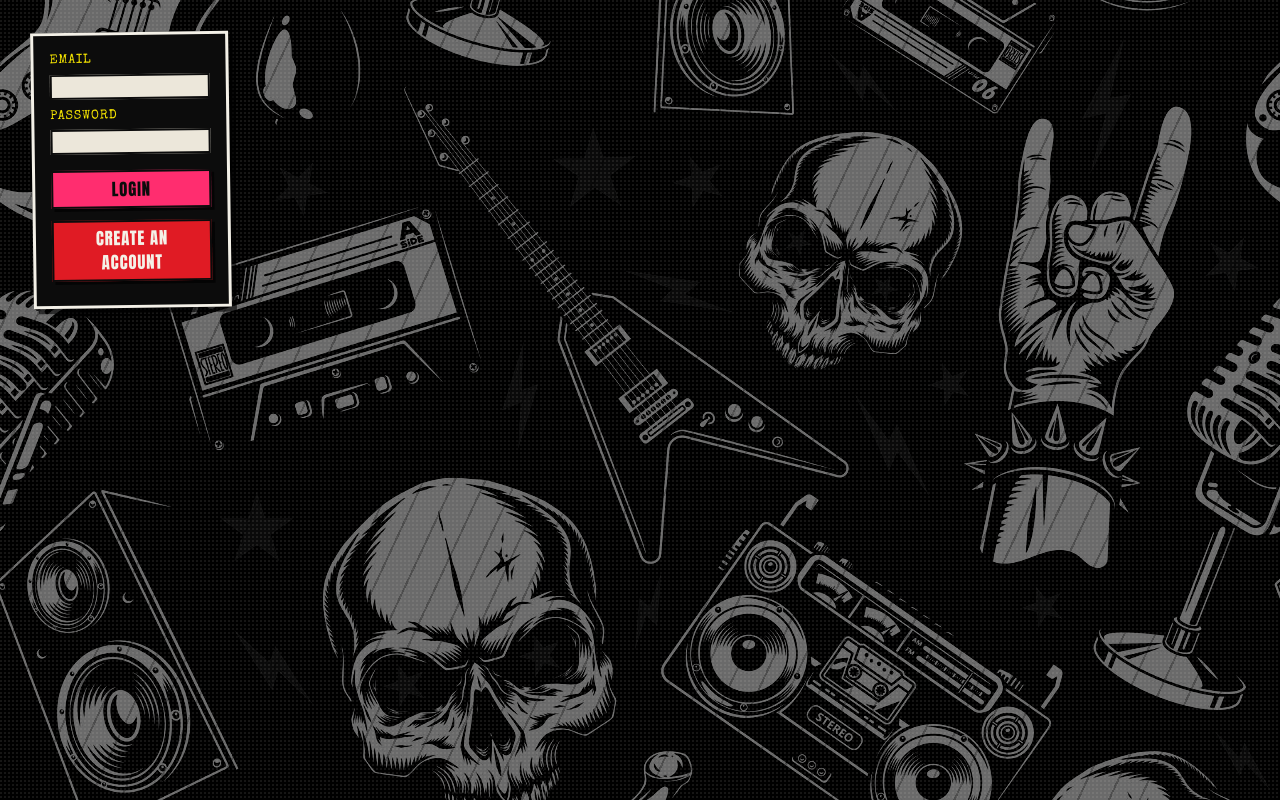
Test: LoginPanel, logged out › signs the member in, token and all
In the field labelled "Email": {"x": 130, "y": 86} [50,72,210,100], type "joey@ramones.com"
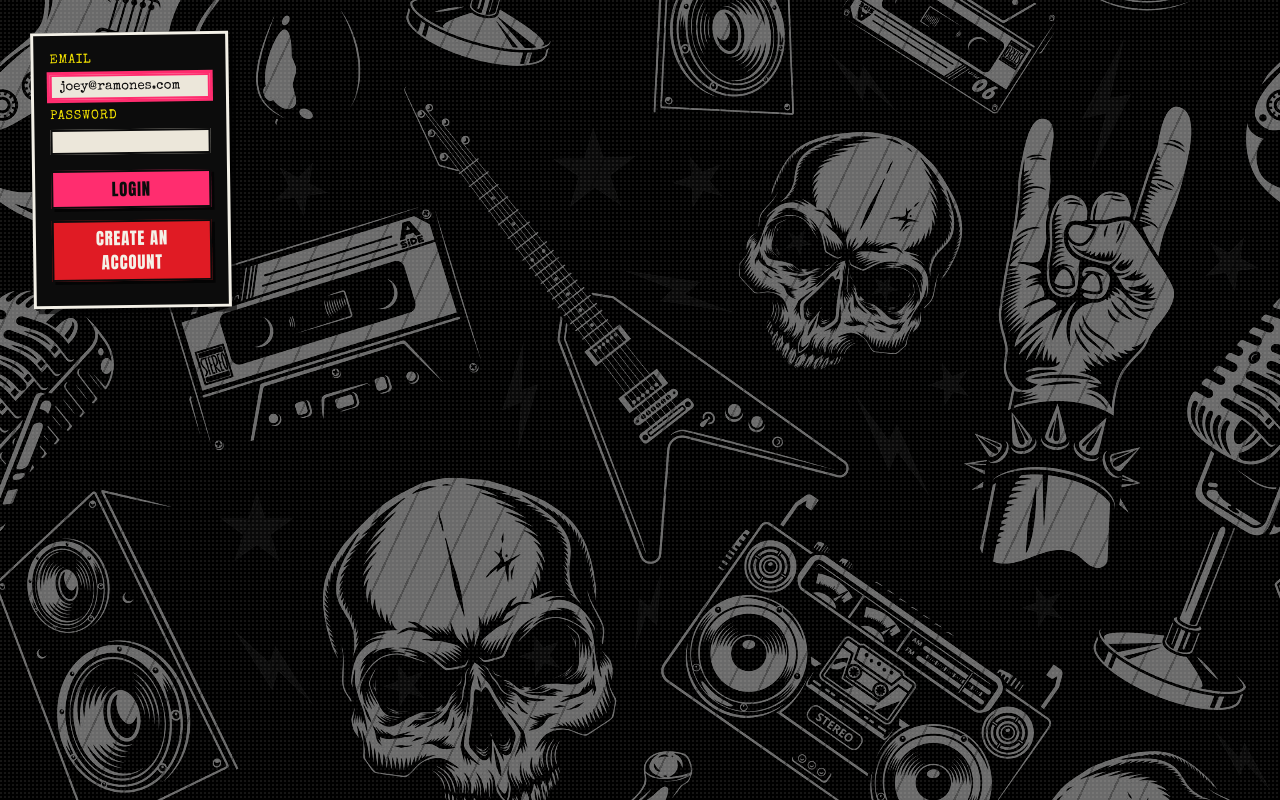
In the password field labelled "Password": {"x": 131, "y": 142} [50,128,211,155], type "hey-ho-lets-go"
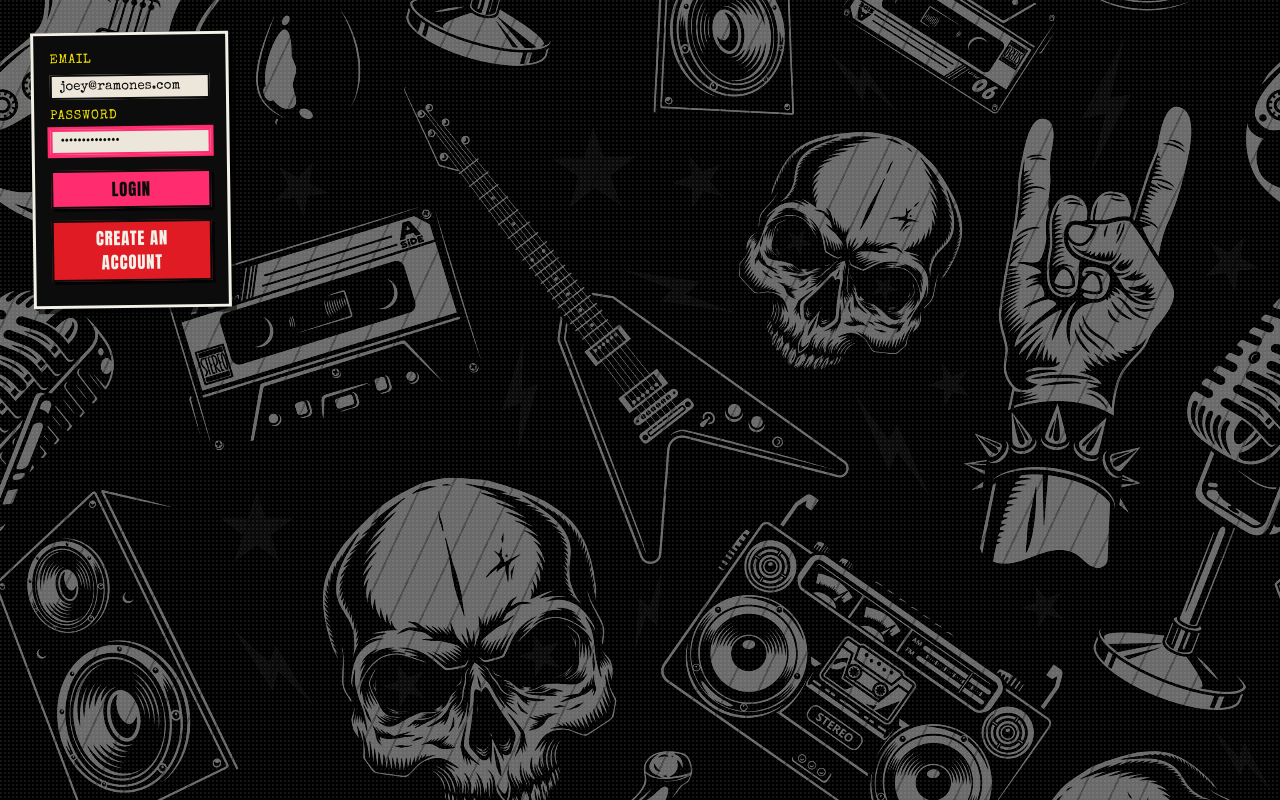
Click the button "Login": {"x": 131, "y": 189} [51,169,212,209]
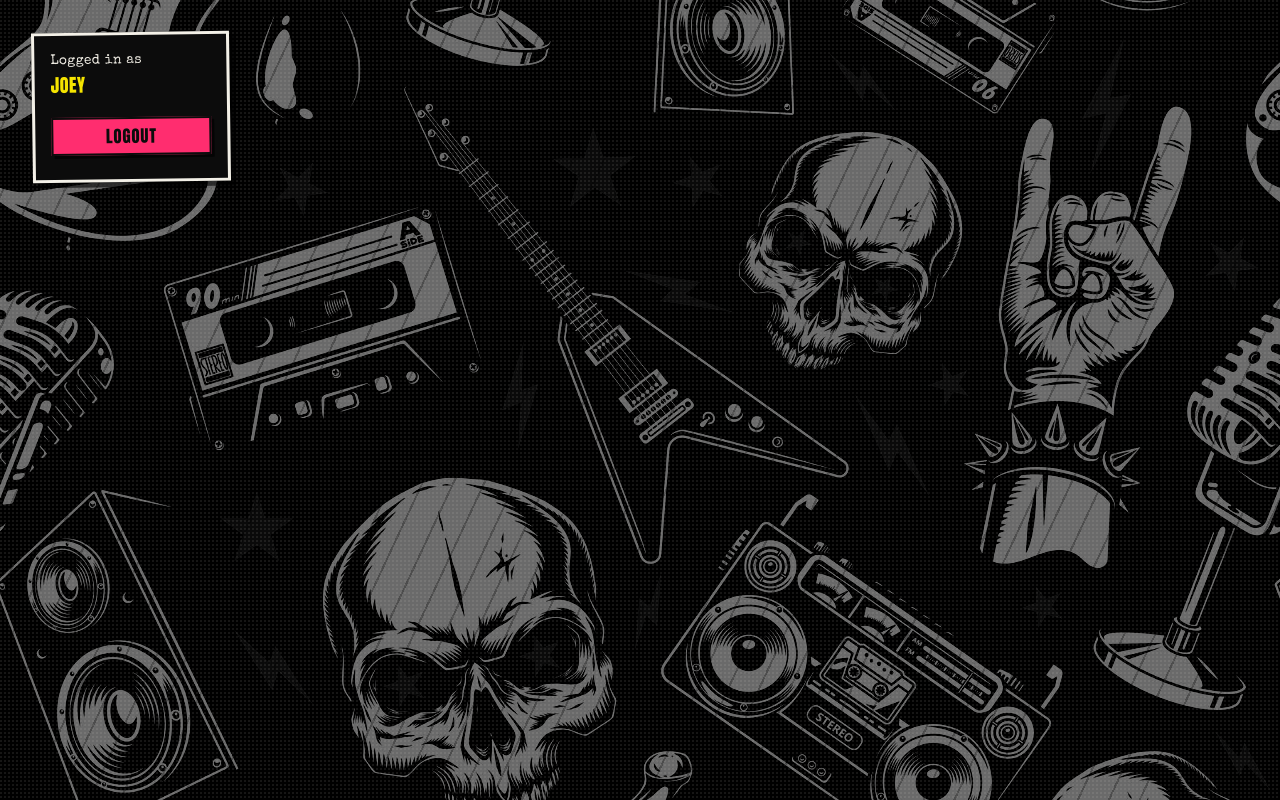
Now the button "Logout" is shown, box [51,116,212,156]
